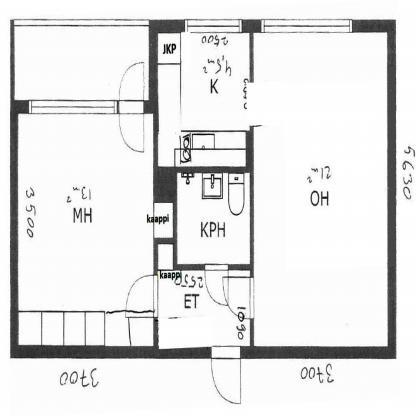bathroom: (173, 169, 254, 271)
door: (116, 59, 148, 158), (209, 344, 245, 408), (221, 273, 258, 322), (122, 273, 160, 320), (116, 107, 150, 154), (116, 61, 148, 110), (203, 260, 231, 309)
perimeter: (10, 22, 398, 358)
window: (258, 11, 356, 41), (24, 96, 117, 121), (183, 12, 247, 39)
